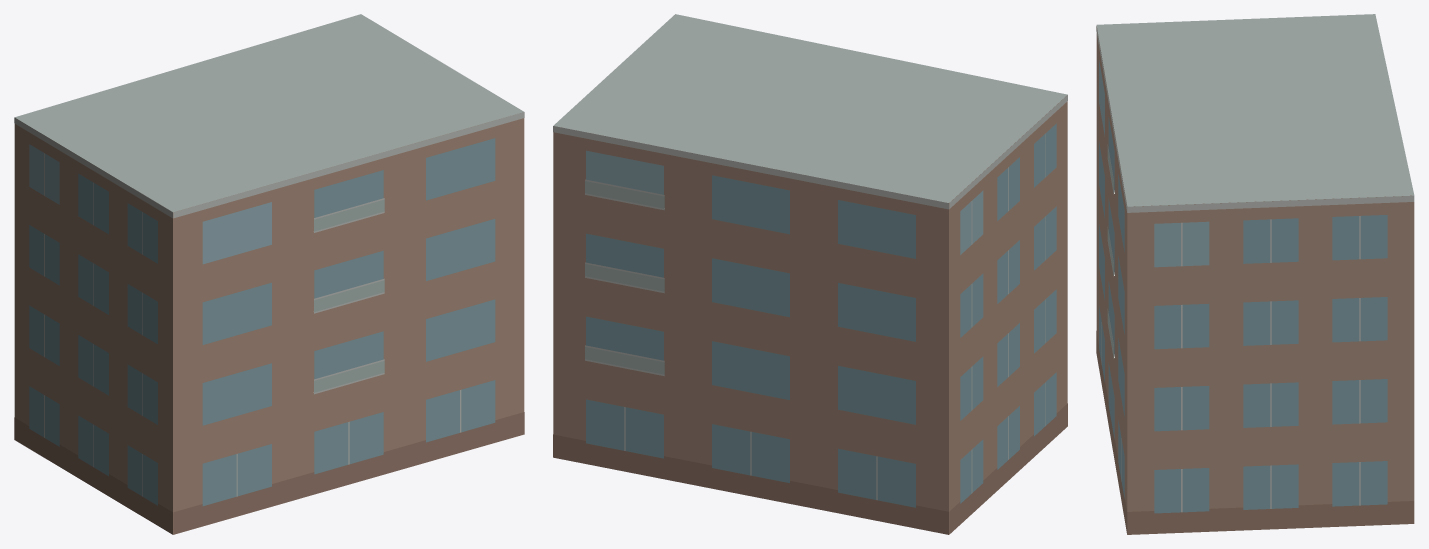
File: survey-upis-32742223.glb
The picture shows the model from 3 angles, left to right: view 1: azimuth 30°, elevation 25°; view 2: azimuth 150°, elevation 25°; view 3: azimuth 270°, elevation 25°; orthographic projection. The views are drawn at different scales.
Visible parts, largest first — view 1: survey-upis-32742223.tmp; view 2: survey-upis-32742223.tmp; view 3: survey-upis-32742223.tmp.
Boxes of the visible parts, left/top/right/bottom form: survey-upis-32742223.tmp: left=14, top=14, right=524, bottom=534; survey-upis-32742223.tmp: left=553, top=14, right=1067, bottom=534; survey-upis-32742223.tmp: left=1096, top=14, right=1414, bottom=534.
Size of the model in its own units: 16.13 by 12.8 by 11.25.
